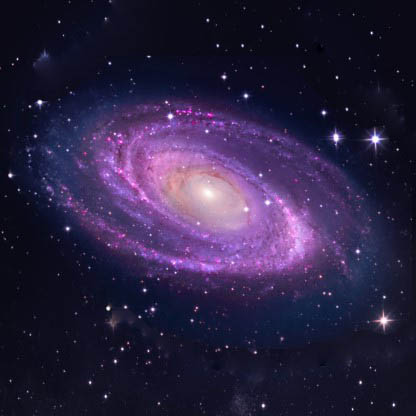Messier 81: (25, 89, 394, 302)
